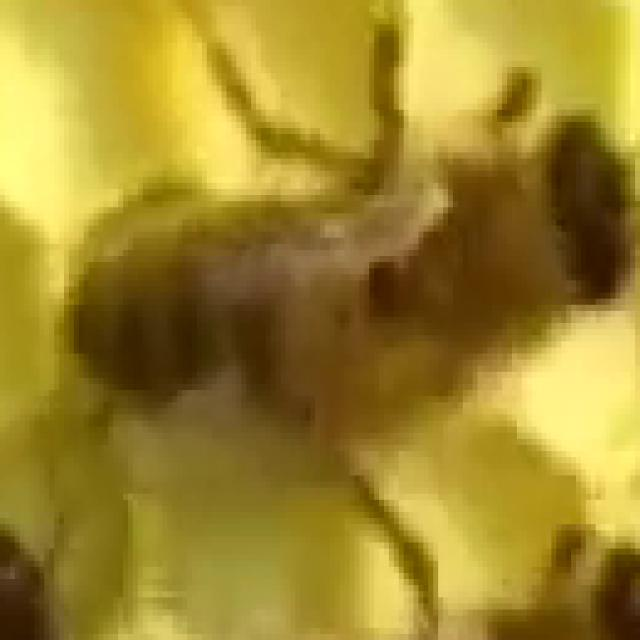honeybee: (63, 47, 640, 535)
